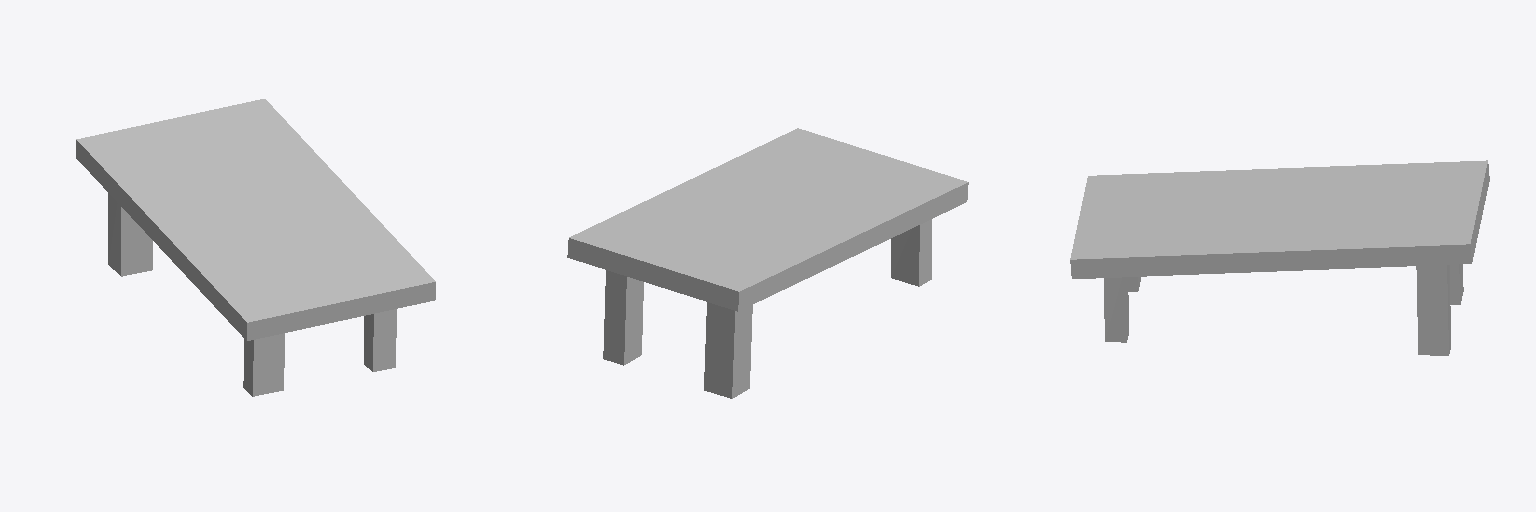
Rendered from table1.obj.
3 renders of one model, left to right at view 1: azimuth 30°, elevation 25°; view 2: azimuth 150°, elevation 25°; view 3: azimuth 270°, elevation 25°, orthographic.
Visible parts, largest first — view 1: table1 furniture_grp; view 2: table1 furniture_grp; view 3: table1 furniture_grp.
Part boxes in pixels (left/top/right/bottom): table1 furniture_grp: left=76, top=99, right=435, bottom=396; table1 furniture_grp: left=567, top=128, right=968, bottom=398; table1 furniture_grp: left=1070, top=160, right=1489, bottom=355.
Bounding box in the file's own units: 178 × 102 × 309.